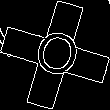O_S: (27, 24, 83, 86)
